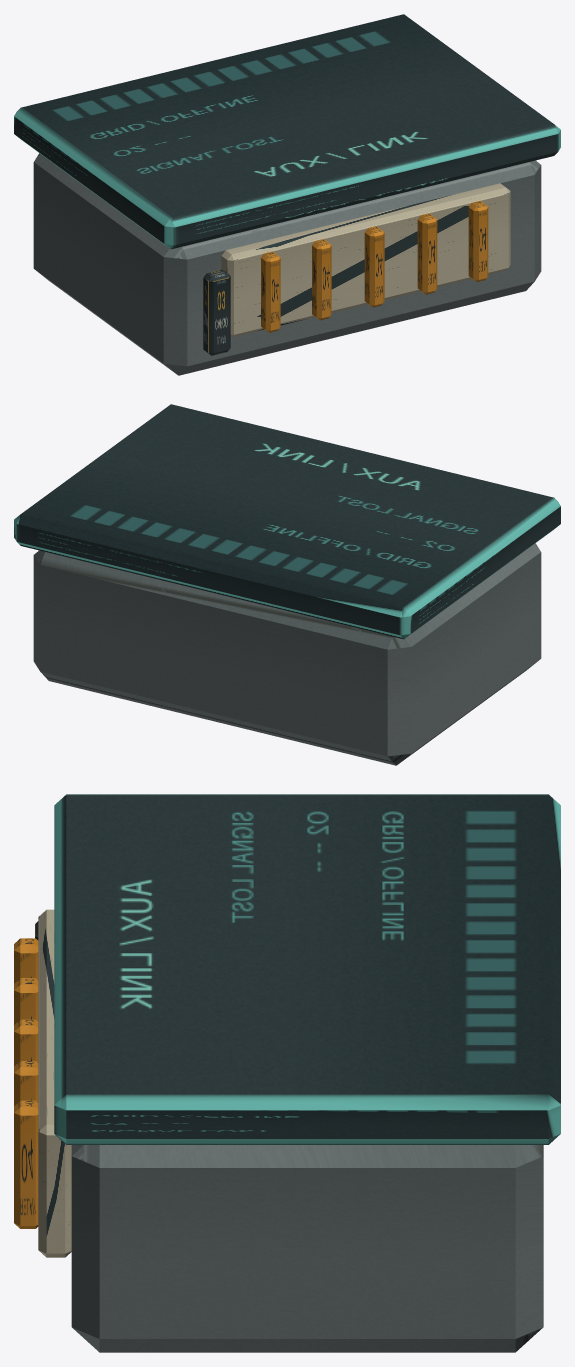
Rendered from hvac_unit_LOD1.obj.
3 renders of one model, top to bottom at view 1: azimuth 30°, elevation 25°; view 2: azimuth 150°, elevation 25°; view 3: azimuth 270°, elevation 25°, orthographic. The views are drawn at different scales.
Parts seen in each view (by area): view 1: L02_hvac_unit_LOD1; view 2: L02_hvac_unit_LOD1; view 3: L02_hvac_unit_LOD1.
Boxes of the visible parts, left/top/right/bottom form: L02_hvac_unit_LOD1: left=14, top=14, right=560, bottom=375; L02_hvac_unit_LOD1: left=14, top=404, right=560, bottom=765; L02_hvac_unit_LOD1: left=14, top=794, right=560, bottom=1352.
Size of the model in its own units: 2.1 by 0.86 by 1.56.
Materials: 1 (1 with a texture image).
